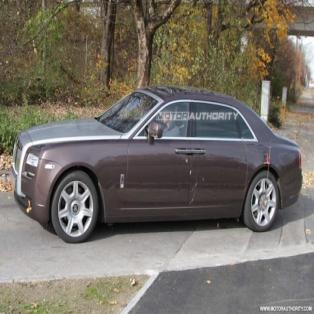Auto: (10, 85, 302, 244)
